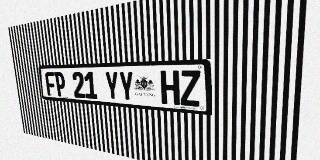1: (83, 71, 97, 99)
2: (72, 72, 85, 98)
F: (45, 72, 56, 96)
H: (160, 70, 180, 105)
P: (54, 72, 66, 97)
Y: (118, 71, 135, 102), (104, 71, 120, 101)
Z: (180, 70, 201, 107)
